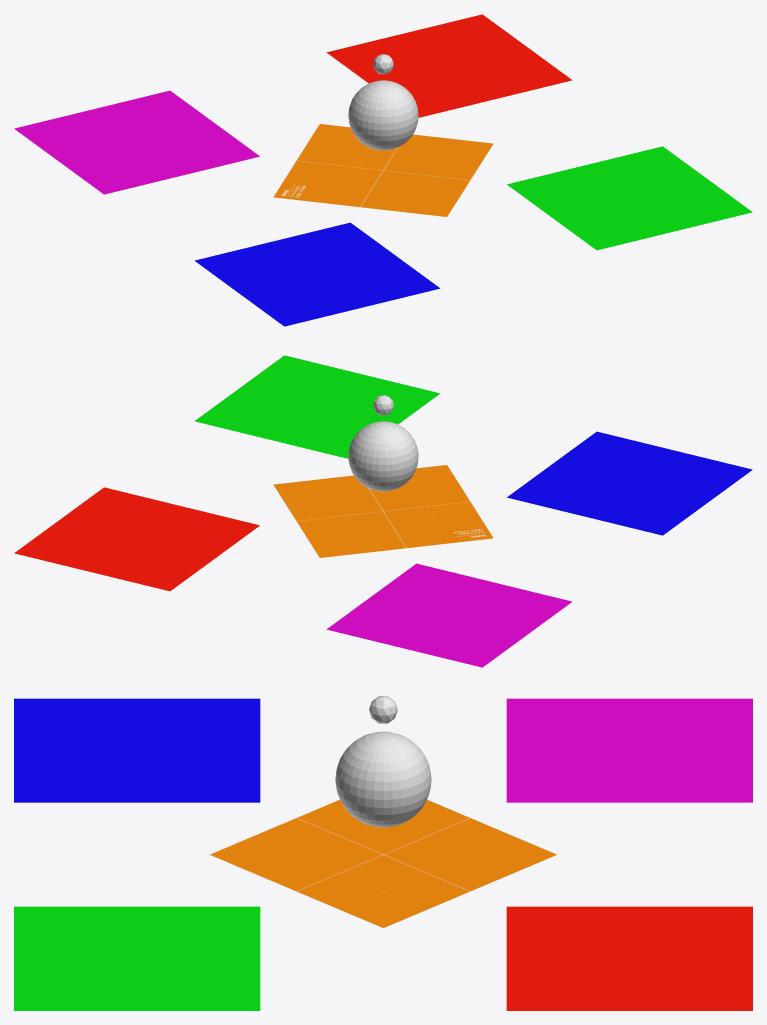
File: Map.gltf.glb
3 renders of one model, top to bottom at view 1: azimuth 30°, elevation 25°; view 2: azimuth 150°, elevation 25°; view 3: azimuth 270°, elevation 25°, orthographic. The views are drawn at different scales.
Visible parts, largest first — view 1: -1, -1, +1, -1, -1, +1, 0, 0, +1,+ 1, _Sphere; view 2: -1, +1, +1,+ 1, -1, -1, 0, 0, +1, -1, _Sphere; view 3: +1,+ 1, -1, -1, +1, -1, -1, +1, 0, 0, _Sphere, Icosphere.
Part boxes in pixels (x1=…): -1, -1: x1=195, y1=222, x2=440, y2=326; +1, -1: x1=507, y1=146, x2=752, y2=250; -1, +1: x1=14, y1=90, x2=259, y2=194; 0, 0: x1=273, y1=124, x2=493, y2=216; +1,+ 1: x1=326, y1=14, x2=571, y2=117; _Sphere: x1=348, y1=80, x2=418, y2=150; -1, +1: x1=326, y1=563, x2=571, y2=667; +1,+ 1: x1=14, y1=487, x2=259, y2=591; -1, -1: x1=507, y1=431, x2=752, y2=535; 0, 0: x1=273, y1=465, x2=493, y2=557; +1, -1: x1=195, y1=355, x2=440, y2=458; _Sphere: x1=348, y1=421, x2=418, y2=491; +1,+ 1: x1=506, y1=906, x2=752, y2=1010; -1, -1: x1=14, y1=698, x2=260, y2=802; +1, -1: x1=14, y1=906, x2=260, y2=1010; -1, +1: x1=506, y1=698, x2=752, y2=802; 0, 0: x1=210, y1=799, x2=556, y2=928; _Sphere: x1=335, y1=731, x2=431, y2=827; Icosphere: x1=369, y1=696, x2=397, y2=723.
Size of the model in its own units: 768 by 181 by 768.
Materials: 5 (1 with a texture image).
